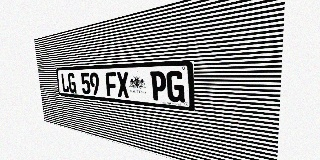5: (81, 73, 91, 95)
9: (89, 72, 100, 95)
F: (105, 72, 118, 97)
G: (166, 71, 185, 103), (67, 73, 77, 93)
L: (61, 73, 69, 93)
P: (150, 71, 167, 101)
X: (116, 72, 130, 98)
